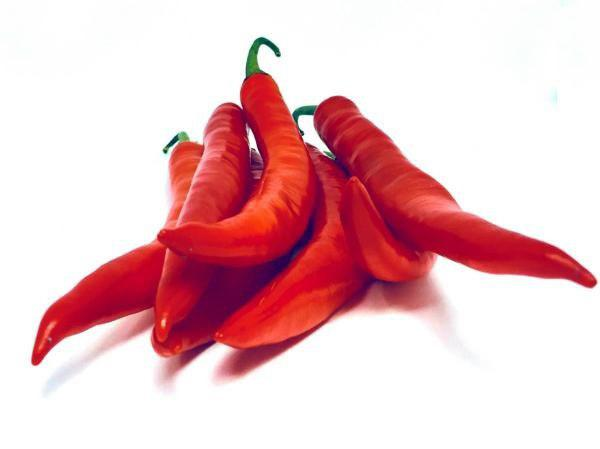lada merah: (308, 95, 593, 289), (21, 139, 216, 376), (168, 60, 329, 276), (224, 144, 379, 361)
